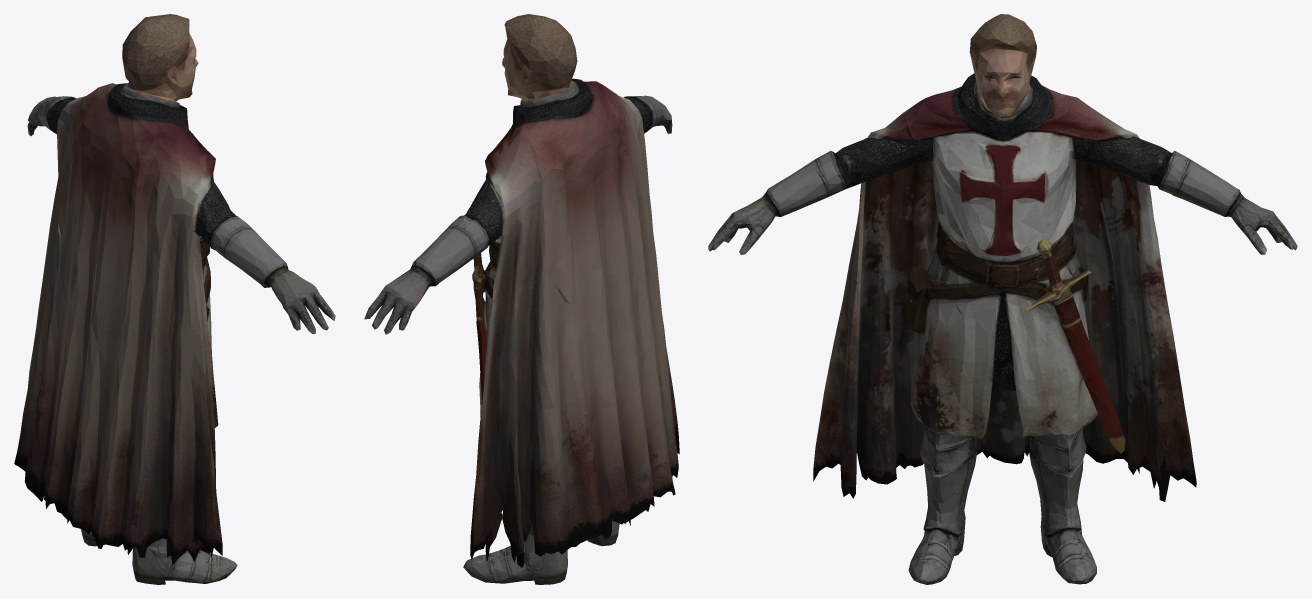
Rendered from Free character medieval.glb.
3 renders of one model, left to right at view 1: azimuth 30°, elevation 25°; view 2: azimuth 150°, elevation 25°; view 3: azimuth 270°, elevation 25°, orthographic. The views are drawn at different scales.
Parts seen in each view (by area): view 1: tripo_node_a81836b8-4957-42c1-9fc8-fcd6646ae061; view 2: tripo_node_a81836b8-4957-42c1-9fc8-fcd6646ae061; view 3: tripo_node_a81836b8-4957-42c1-9fc8-fcd6646ae061.
Part boxes in pixels (left/top/right/bottom): tripo_node_a81836b8-4957-42c1-9fc8-fcd6646ae061: left=14, top=14, right=335, bottom=584; tripo_node_a81836b8-4957-42c1-9fc8-fcd6646ae061: left=364, top=14, right=679, bottom=584; tripo_node_a81836b8-4957-42c1-9fc8-fcd6646ae061: left=708, top=14, right=1297, bottom=584.
Bounding box in the file's own units: 0.3042 × 0.9974 × 0.964.
Materials: 1 (1 with a texture image).
